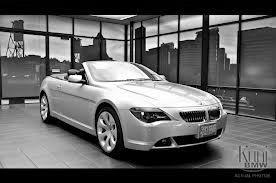car: (34, 55, 233, 165)
